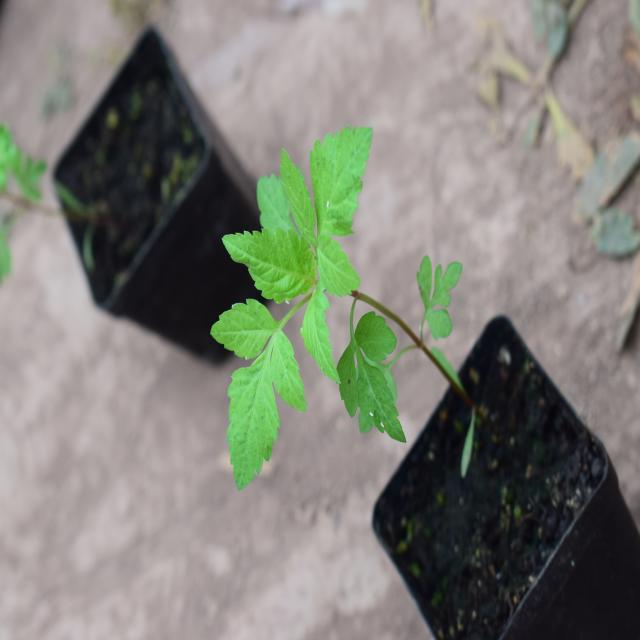Bidens pilosa: (211, 114, 468, 465)
